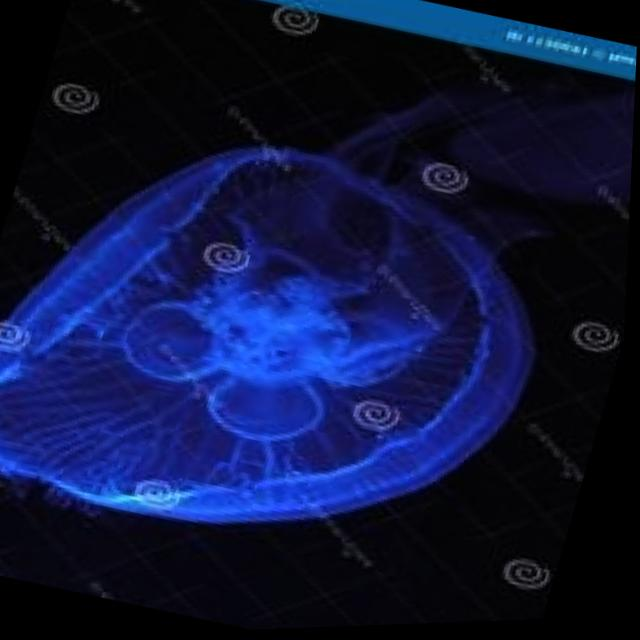Box-jellyfish: (0, 72, 589, 620)
